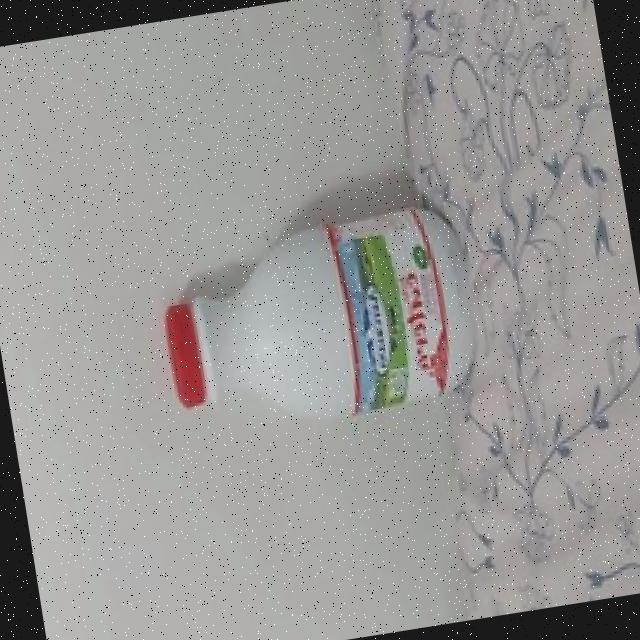bottle: (128, 184, 500, 452)
cap: (158, 302, 222, 413)
label: (328, 214, 464, 419)
